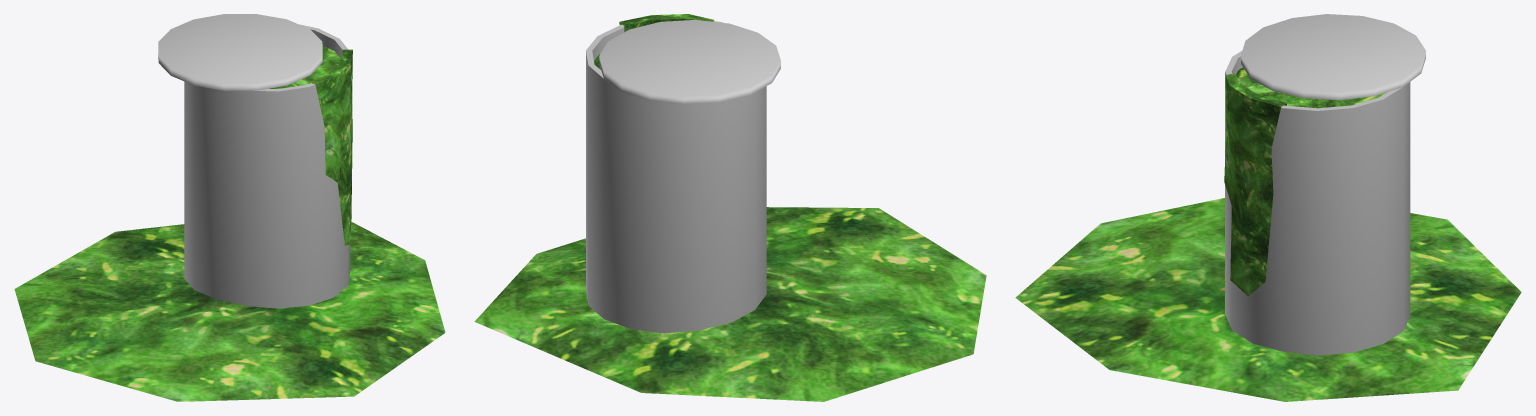
Rendered from toxic_spill_1.fbx.
3 renders of one model, left to right at view 1: azimuth 30°, elevation 25°; view 2: azimuth 150°, elevation 25°; view 3: azimuth 270°, elevation 25°, orthographic. The views are drawn at different scales.
Parts seen in each view (by area): view 1: polySurface36; view 2: polySurface36; view 3: polySurface36.
Boxes of the visible parts, x1,y1,x2,y2 form: polySurface36: [14, 14, 445, 401]; polySurface36: [474, 14, 986, 401]; polySurface36: [1015, 14, 1521, 401].
Bounding box in the file's own units: 5.65 × 3.21 × 5.65.
